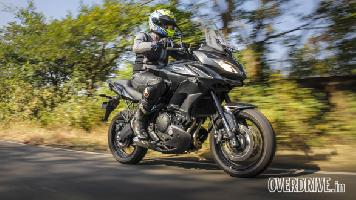helmet: (151, 6, 180, 36)
